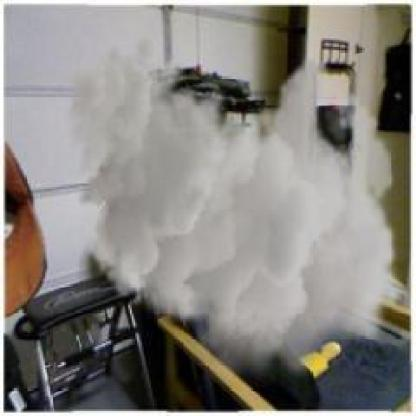Smoke: (65, 33, 405, 390)
